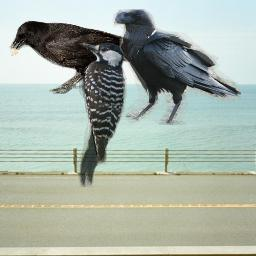Crow: (112, 9, 241, 125), (8, 20, 162, 94)
Woodpecker: (77, 39, 128, 187)
